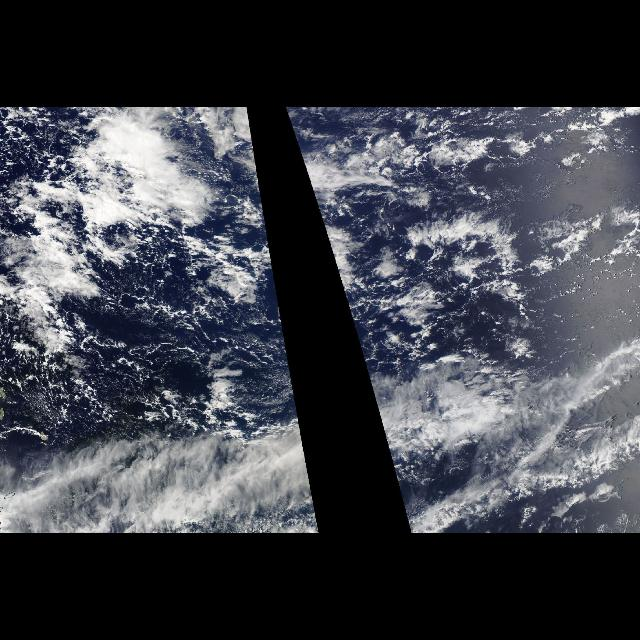Gravel: (61, 226, 302, 434), (323, 226, 541, 434)
